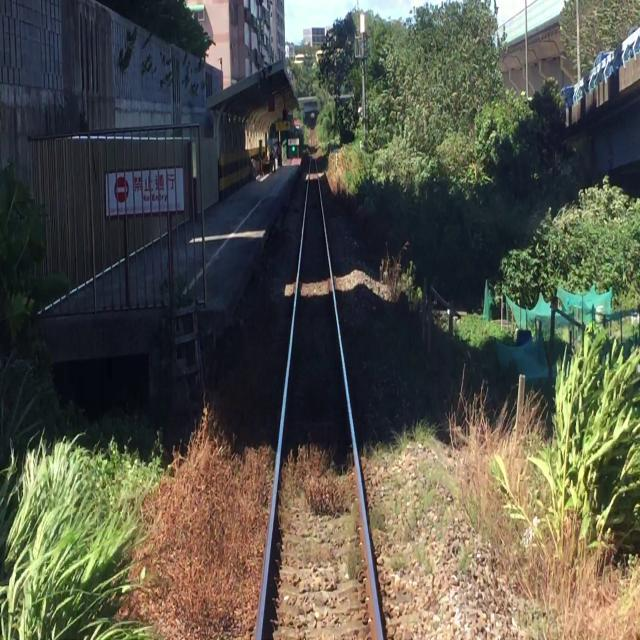track: (249, 154, 396, 640)
